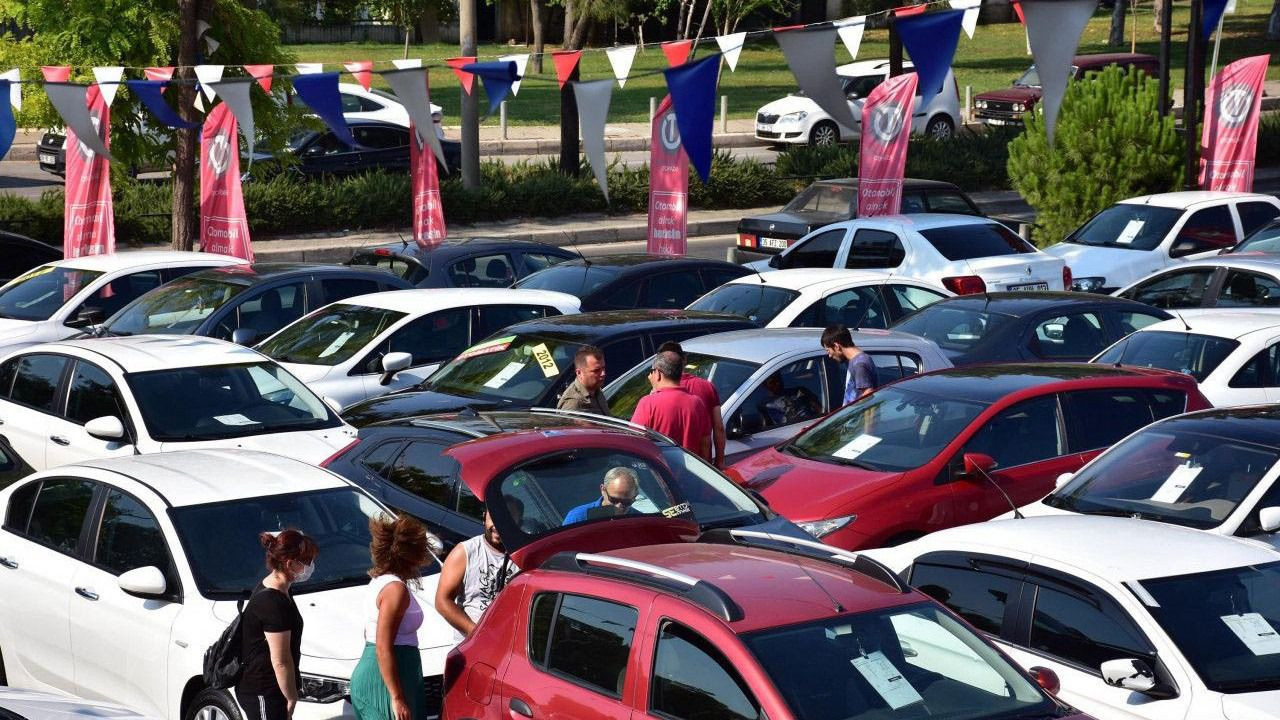Car: (439, 426, 1092, 720), (0, 447, 466, 720), (725, 363, 1215, 550), (852, 515, 1280, 720), (319, 409, 814, 561), (602, 324, 956, 469), (343, 310, 763, 427), (0, 335, 357, 470), (986, 404, 1280, 550), (256, 289, 581, 407), (69, 264, 410, 348), (739, 214, 1072, 295), (0, 251, 255, 353), (736, 178, 1033, 264), (1041, 191, 1280, 293), (891, 292, 1169, 366), (755, 56, 963, 149), (1090, 311, 1280, 407), (685, 269, 957, 329), (239, 117, 461, 180), (971, 53, 1159, 127), (509, 256, 759, 311), (348, 238, 580, 288), (35, 105, 176, 181), (1110, 255, 1280, 318), (265, 83, 443, 138), (0, 684, 158, 720), (0, 231, 64, 288), (1218, 218, 1280, 256), (0, 436, 35, 490)
